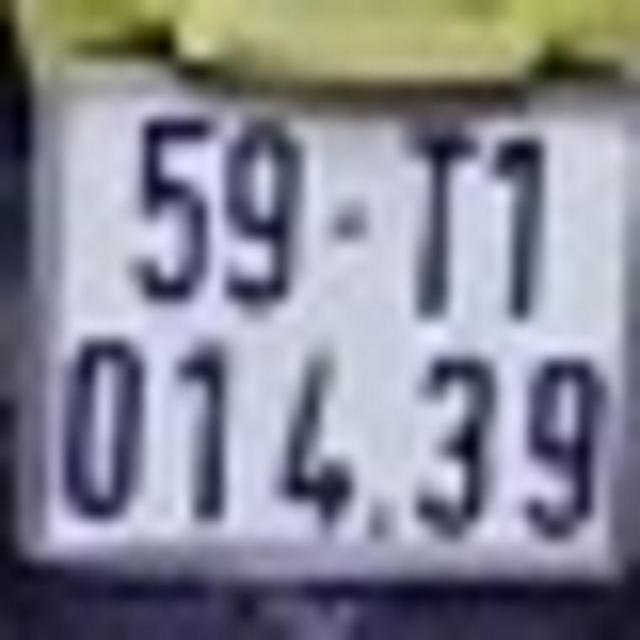0: (67, 336, 138, 515)
1: (490, 138, 547, 321), (177, 343, 226, 523)
3: (418, 359, 491, 540)
4: (282, 350, 354, 534)
5: (140, 114, 210, 297)
9: (220, 118, 296, 308), (523, 360, 596, 538)
T: (403, 129, 479, 320)
